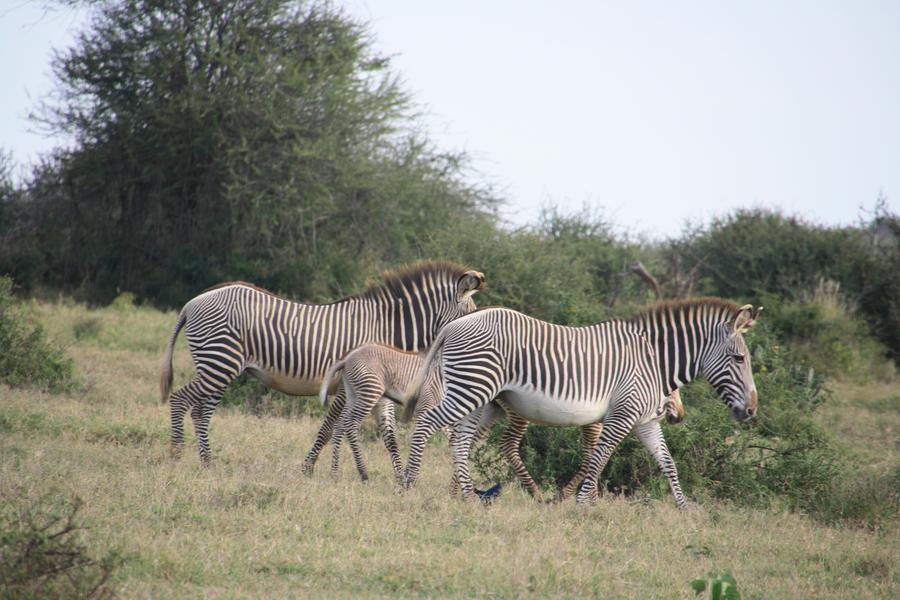zebra_grevys: (185, 279, 319, 381)
